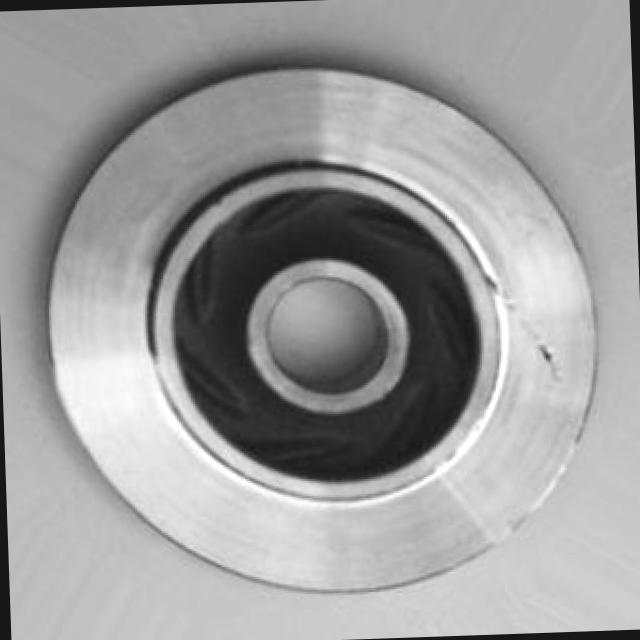Defect: (523, 330, 570, 384)
